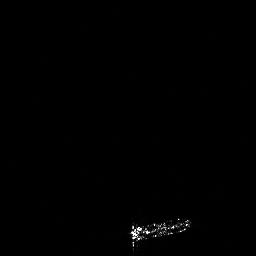ship: (130, 216, 189, 240)
